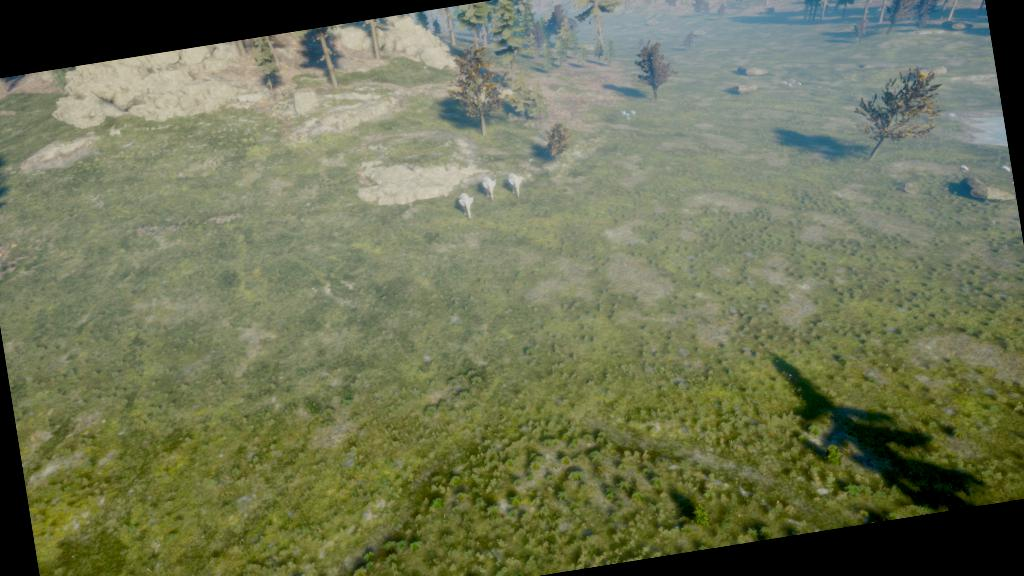elephant: (452, 186, 480, 224), (502, 168, 528, 202), (476, 172, 500, 206)
